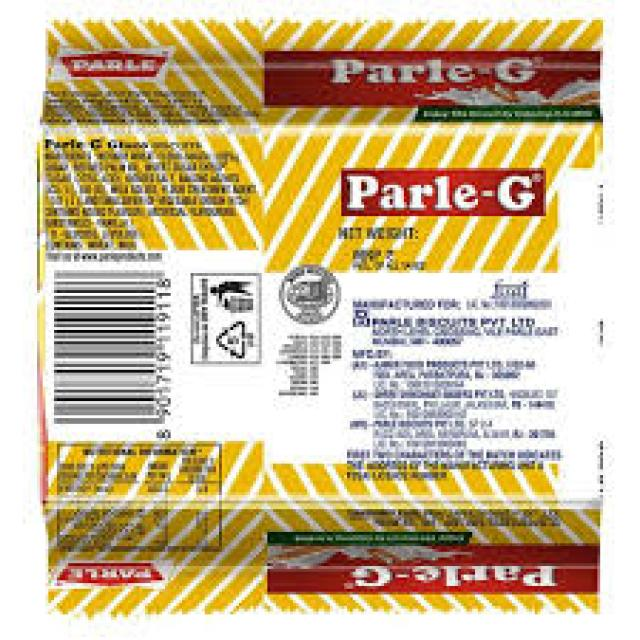parle-g: (32, 19, 606, 614)
